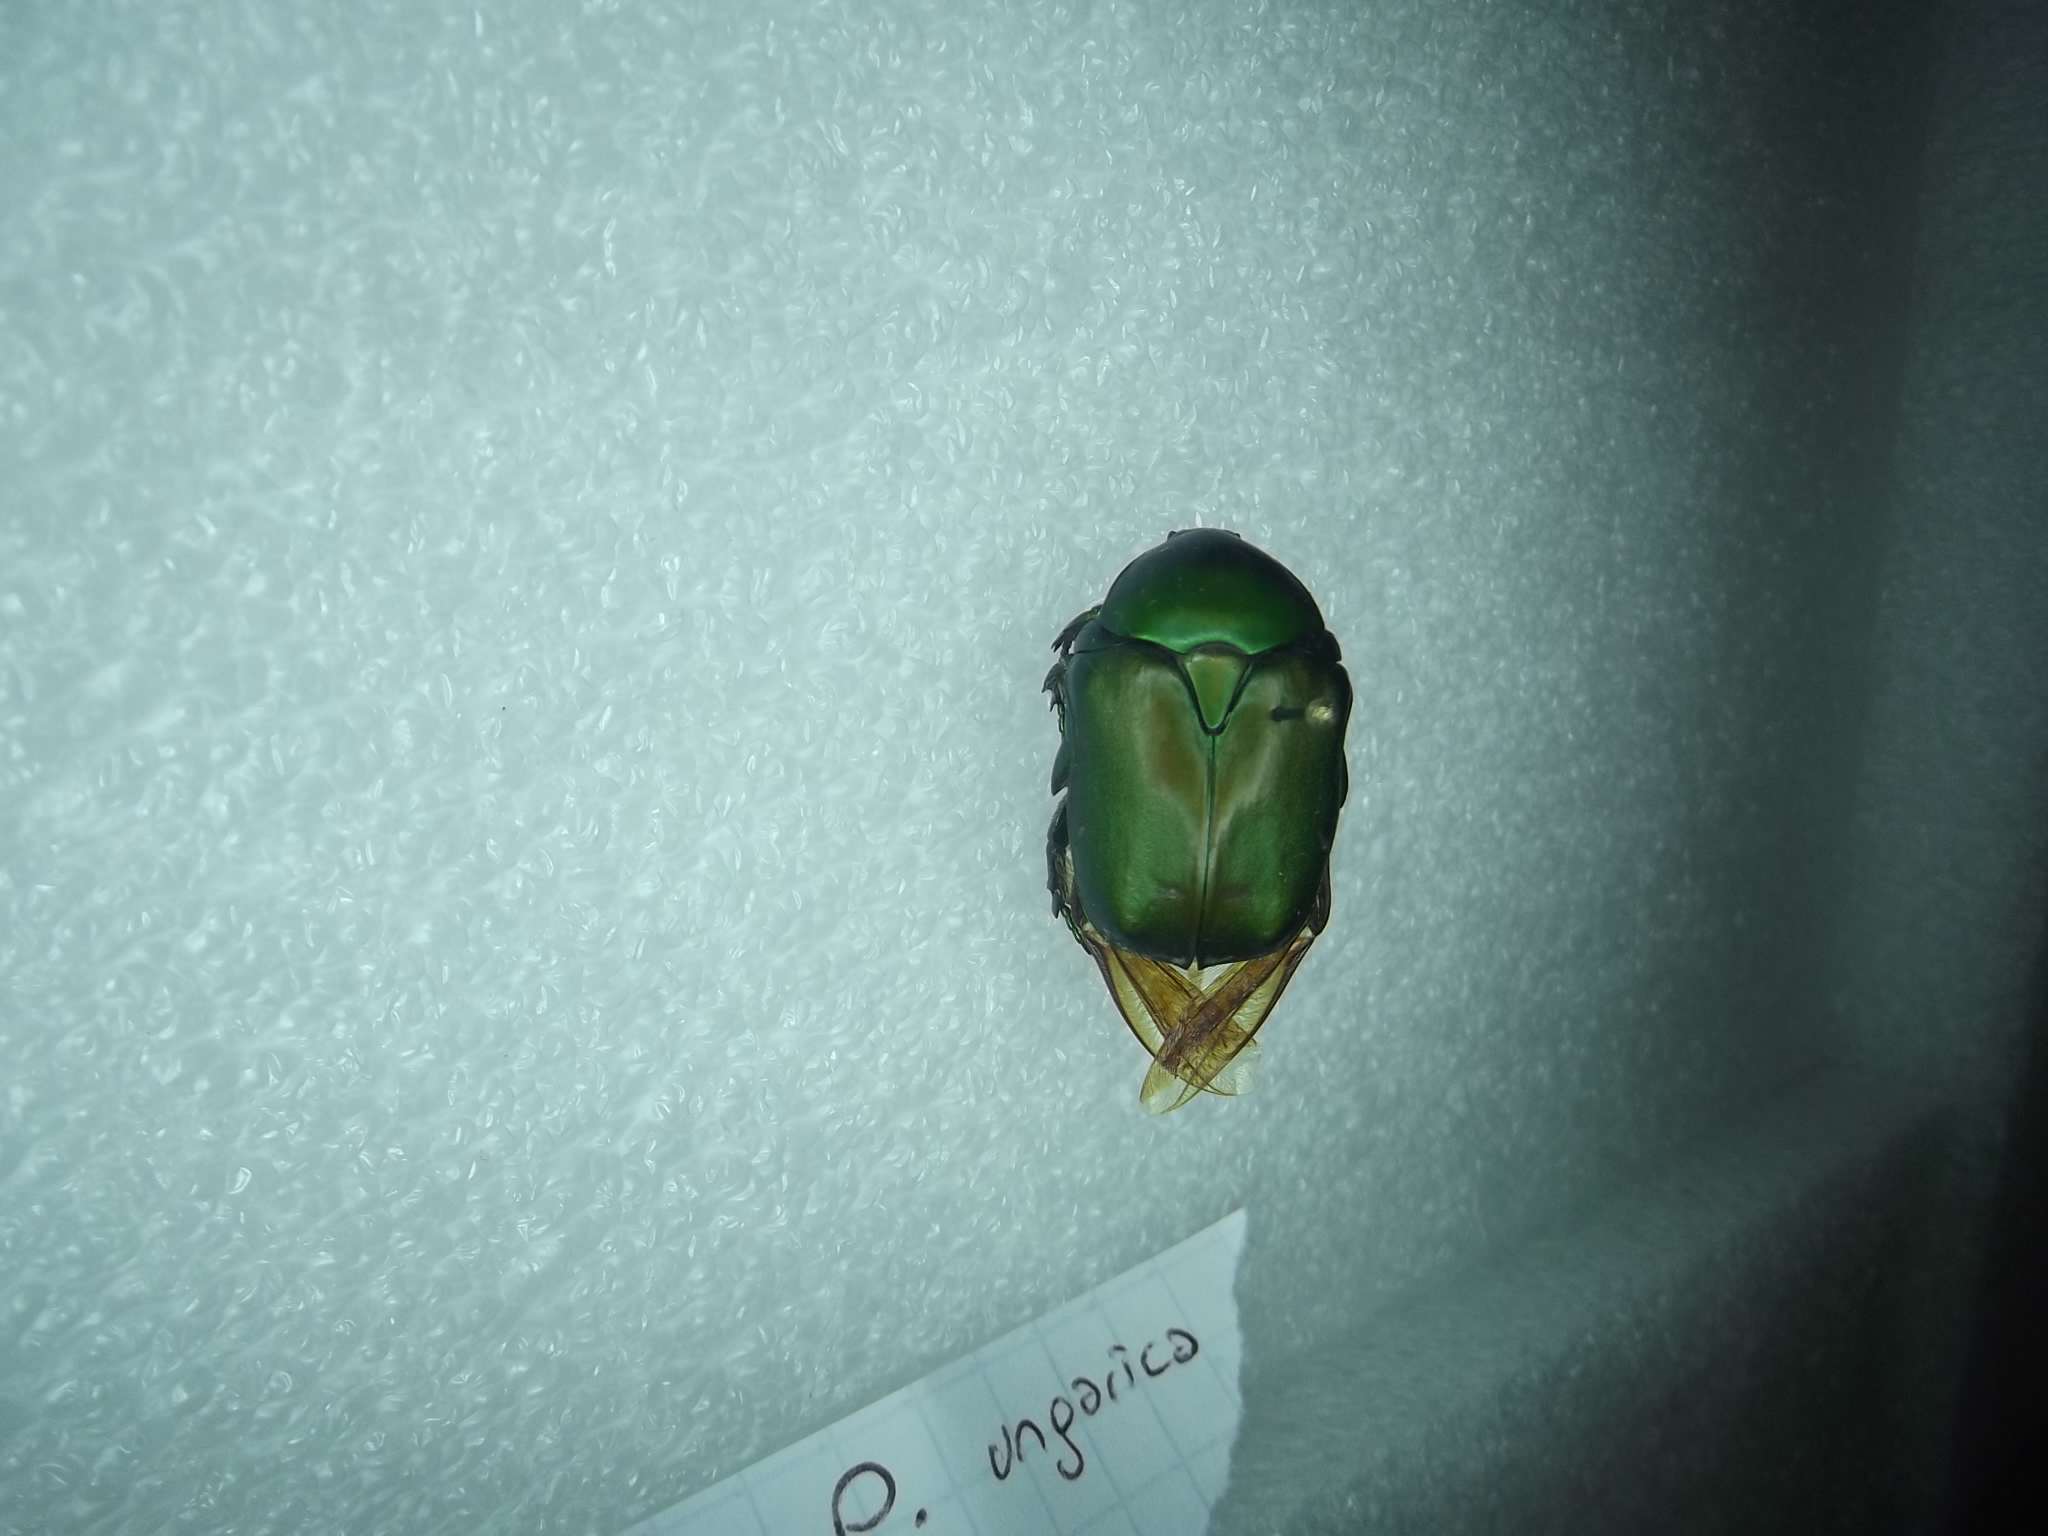Protaetia_ungarica_americana: (1022, 502, 1380, 1128)
